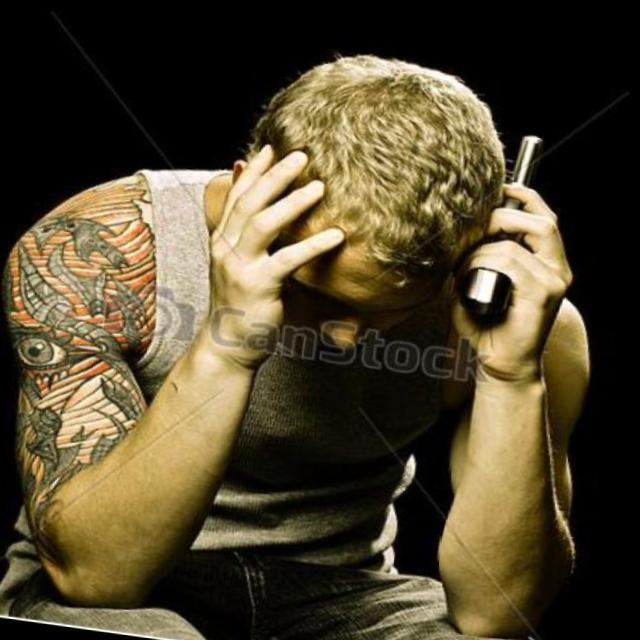weapon: (456, 119, 546, 318)
